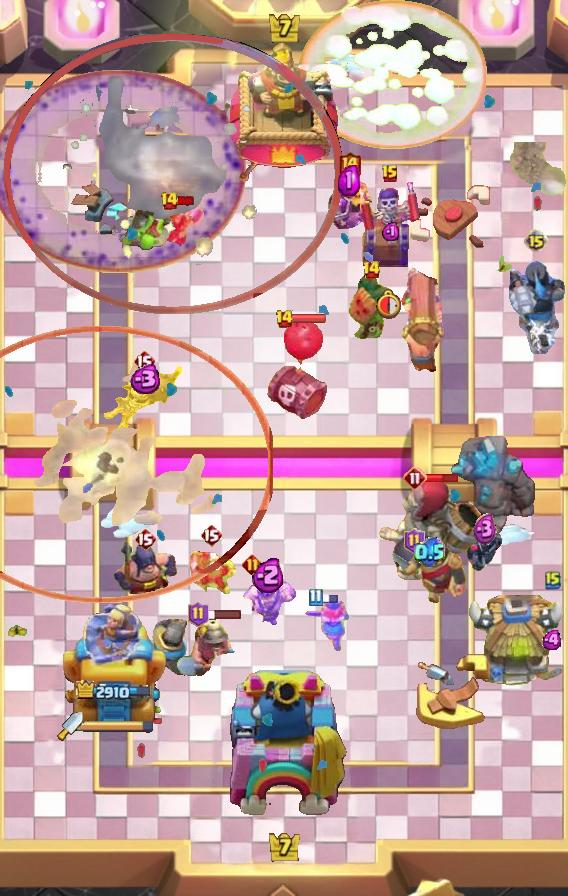arrows: (242, 561, 297, 626)
bandit: (175, 613, 243, 679)
bar: (59, 595, 169, 731)
bar-level: (118, 203, 176, 251)
battle-healer: (398, 260, 446, 374)
battle-ram: (464, 528, 506, 572)
cannoneer-tower: (449, 435, 539, 537)
electro-giant: (376, 474, 490, 582)
electro-spirit: (252, 555, 286, 593), (126, 364, 162, 394), (414, 536, 445, 567), (473, 514, 497, 546), (338, 165, 360, 196), (542, 630, 564, 650), (382, 221, 399, 241)
elixir: (376, 289, 404, 320)
emote: (424, 472, 460, 484), (206, 608, 242, 620), (291, 313, 327, 324), (320, 592, 340, 604), (177, 195, 196, 207)
firecracker: (391, 545, 467, 603), (153, 619, 192, 677)
firecracker-evolution: (327, 170, 372, 229)
fisherman: (505, 141, 567, 202)
giant-snowball: (186, 551, 236, 599)
goblin-ball: (102, 364, 186, 434)
goblin-barrel: (342, 271, 400, 341)
hog-rider: (303, 599, 351, 653), (162, 202, 206, 250)
inferno-dragon: (506, 258, 566, 354)
king-tower: (219, 670, 349, 826), (230, 43, 338, 181)
king-tower-bar: (83, 719, 155, 733)
monk: (112, 540, 178, 598)
phoenix-big: (298, 0, 488, 148)
prince: (466, 595, 568, 691)
rocket: (0, 69, 246, 273)
royal-ghost: (4, 34, 343, 314), (0, 325, 272, 602)
royal-recruit-evolution: (264, 319, 330, 423)
selected: (75, 680, 152, 703)
skeleton-king-bar: (359, 179, 421, 271)
text: (337, 151, 362, 182), (524, 229, 548, 253), (403, 466, 427, 490), (403, 528, 424, 554), (188, 601, 209, 627), (133, 349, 155, 373), (200, 523, 222, 547), (134, 527, 156, 551), (241, 553, 263, 574), (274, 309, 294, 329), (161, 191, 180, 211), (363, 260, 382, 280), (381, 164, 399, 184), (545, 570, 561, 590), (309, 589, 323, 608)
